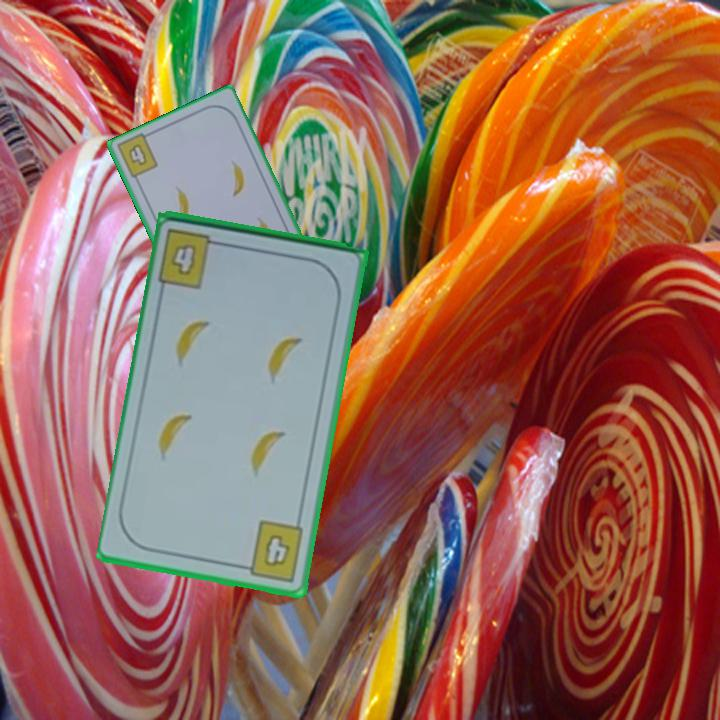4b: (155, 225, 228, 291), (237, 517, 307, 585), (125, 140, 150, 168)
